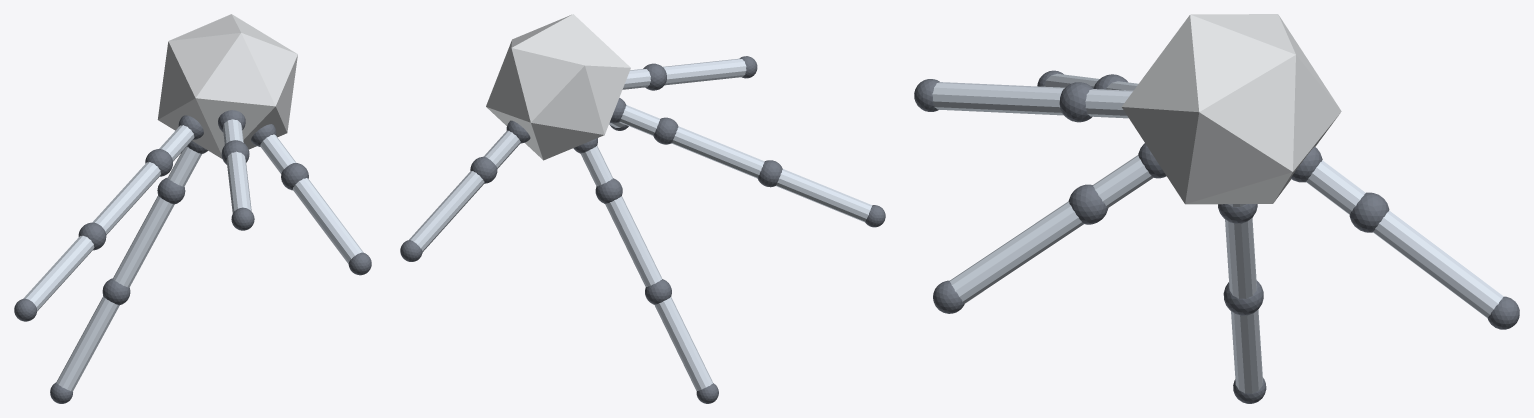
The model's file is g0_33222_1_abs.glb.
The picture shows the model from 3 angles, left to right: view 1: azimuth 30°, elevation 25°; view 2: azimuth 150°, elevation 25°; view 3: azimuth 270°, elevation 25°; orthographic projection. The views are drawn at different scales.
Parts seen in each view (by area): view 1: geom_0, geom_6, geom_4, geom_11, geom_23, geom_21, geom_16, geom_2, geom_9, geom_19, geom_3, geom_5 (+11 smaller); view 2: geom_0, geom_23, geom_6, geom_21, geom_4, geom_28, geom_16, geom_19, geom_2, geom_26, geom_3, geom_20 (+5 smaller); view 3: geom_0, geom_11, geom_28, geom_16, geom_6, geom_4, geom_9, geom_26, geom_14, geom_27, geom_10, geom_15 (+6 smaller).
Part boxes in pixels (left/top/right/bottom): geom_0: left=157, top=14, right=297, bottom=158; geom_6: left=56, top=296, right=119, bottom=391; geom_4: left=113, top=195, right=174, bottom=287; geom_11: left=293, top=178, right=363, bottom=263; geom_23: left=23, top=235, right=94, bottom=311; geom_21: left=92, top=162, right=160, bottom=234; geom_16: left=226, top=151, right=251, bottom=213; geom_2: left=168, top=147, right=201, bottom=186; geom_9: left=260, top=134, right=296, bottom=173; geom_19: left=159, top=125, right=194, bottom=161; geom_3: left=157, top=177, right=185, bottom=204; geom_5: left=102, top=278, right=130, bottom=305; geom_0: left=486, top=14, right=630, bottom=160; geom_23: left=776, top=169, right=871, bottom=222; geom_6: left=654, top=297, right=712, bottom=391; geom_21: left=671, top=126, right=764, bottom=178; geom_4: left=605, top=196, right=662, bottom=286; geom_28: left=409, top=171, right=484, bottom=251; geom_16: left=663, top=58, right=746, bottom=85; geom_19: left=619, top=105, right=660, bottom=135; geom_2: left=581, top=146, right=612, bottom=186; geom_26: left=484, top=130, right=520, bottom=168; geom_3: left=595, top=178, right=622, bottom=203; geom_20: left=653, top=117, right=678, bottom=144; geom_0: left=1122, top=14, right=1341, bottom=204; geom_11: left=950, top=201, right=1083, bottom=303; geom_28: left=1373, top=210, right=1503, bottom=317; geom_16: left=932, top=82, right=1064, bottom=115; geom_6: left=1231, top=310, right=1262, bottom=393; geom_4: left=1225, top=218, right=1256, bottom=298; geom_9: left=1093, top=155, right=1153, bottom=207; geom_26: left=1306, top=160, right=1365, bottom=214; geom_14: left=1085, top=89, right=1133, bottom=118; geom_27: left=1349, top=192, right=1389, bottom=232; geom_10: left=1068, top=184, right=1108, bottom=224; geom_15: left=1059, top=82, right=1093, bottom=122.
Bounding box in the file's own units: 0.4071 × 0.3953 × 0.4341.
